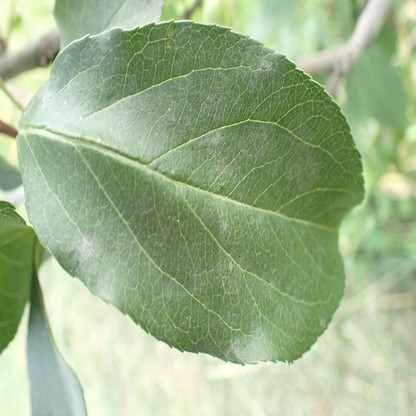powdery_mildew: (162, 23, 276, 116), (164, 255, 249, 295), (285, 119, 318, 191), (239, 127, 280, 175), (200, 130, 232, 183), (224, 326, 271, 360), (78, 236, 104, 275), (39, 72, 60, 104), (214, 194, 230, 234), (249, 206, 266, 235), (95, 29, 111, 56), (98, 277, 116, 300)
